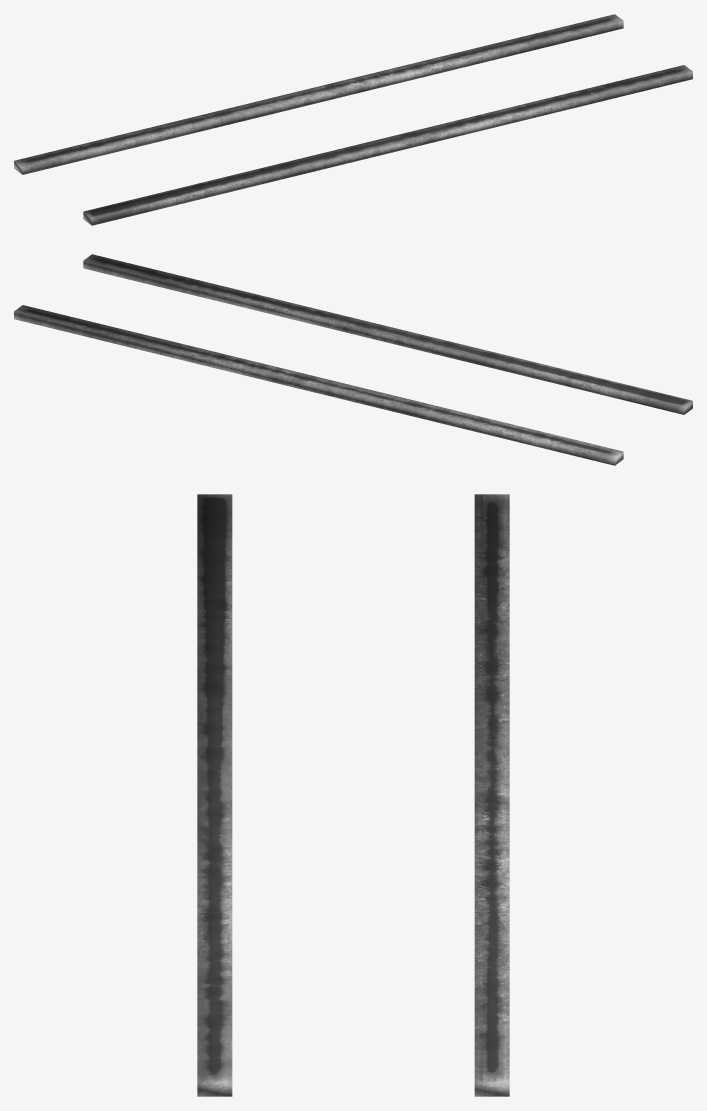
Rendered from tracks_straight.fbx.
3 renders of one model, top to bottom at view 1: azimuth 30°, elevation 25°; view 2: azimuth 150°, elevation 25°; view 3: azimuth 270°, elevation 25°, orthographic. The views are drawn at different scales.
Parts seen in each view (by area): view 1: Box011; view 2: Box011; view 3: Box011.
Boxes of the visible parts, x1,y1,x2,y2 form: Box011: [14, 14, 692, 225]; Box011: [14, 254, 692, 465]; Box011: [197, 494, 509, 1096].
Bounding box in the file's own units: 269 × 3.33 × 60.61.
